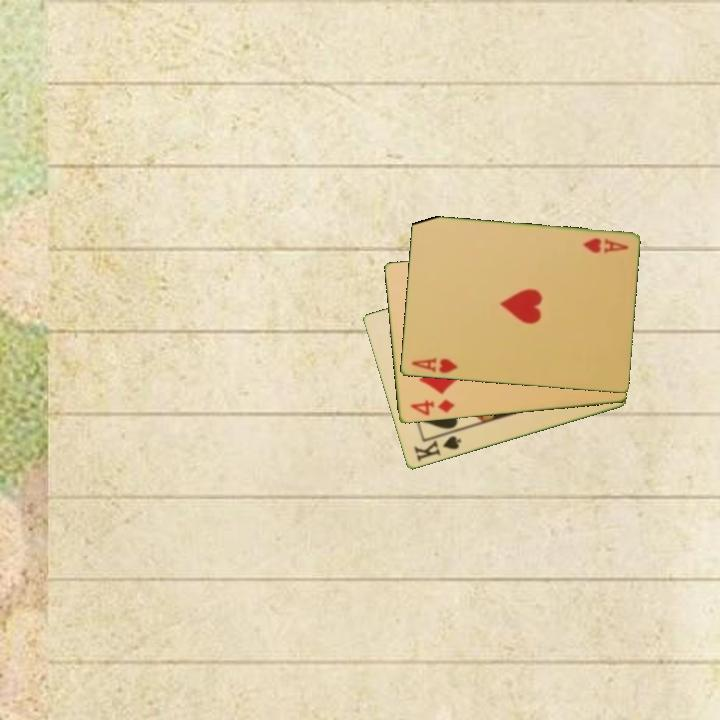4d: (407, 396, 457, 419)
Ah: (408, 354, 460, 376), (580, 235, 631, 256)
Ks: (410, 428, 464, 465)
